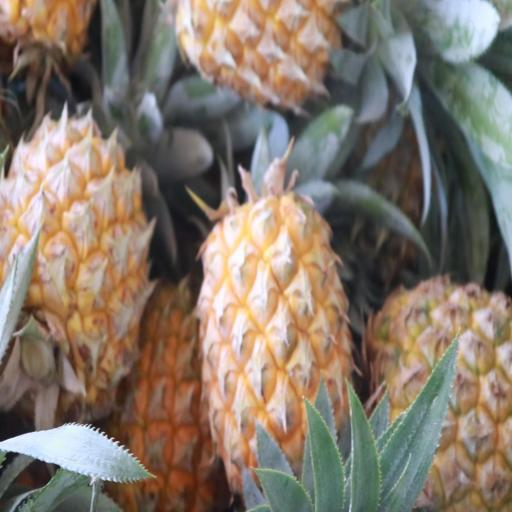Pineapple - v8 v1: (202, 194, 354, 502), (0, 114, 148, 402), (371, 274, 512, 512), (112, 280, 228, 510)
